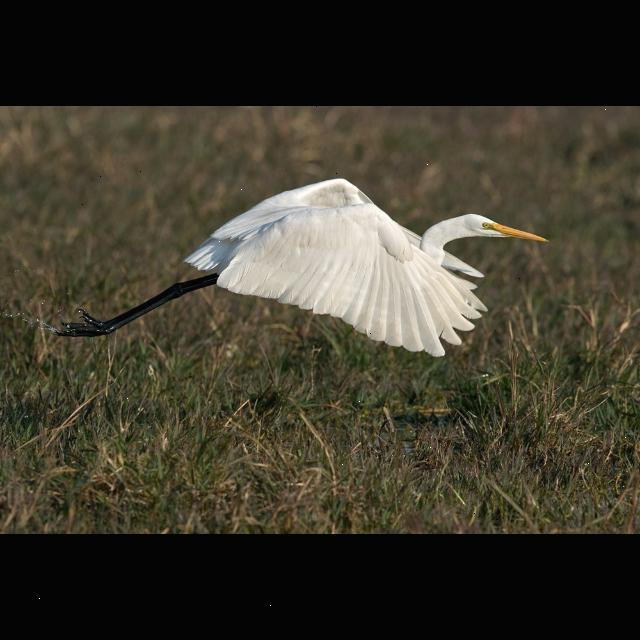egret: (36, 168, 550, 368)
